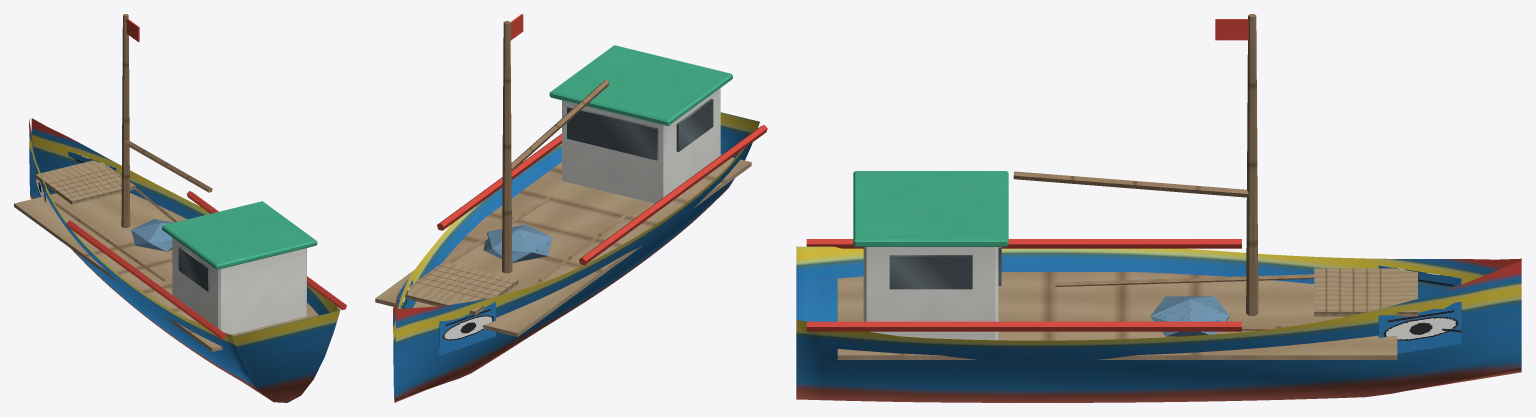
File: fishing-boat-eg.glb
3 renders of one model, left to right at view 1: azimuth 30°, elevation 25°; view 2: azimuth 150°, elevation 25°; view 3: azimuth 270°, elevation 25°, orthographic. The views are drawn at different scales.
Parts seen in each view (by area): view 1: fishing_boat_eg; view 2: fishing_boat_eg; view 3: fishing_boat_eg.
Boxes of the visible parts, x1,y1,x2,y2 form: fishing_boat_eg: [14, 14, 346, 402]; fishing_boat_eg: [375, 14, 767, 402]; fishing_boat_eg: [796, 14, 1521, 402].
Bounding box in the file's own units: 2.2 × 4.05 × 7.
1 material, 1 textured.
